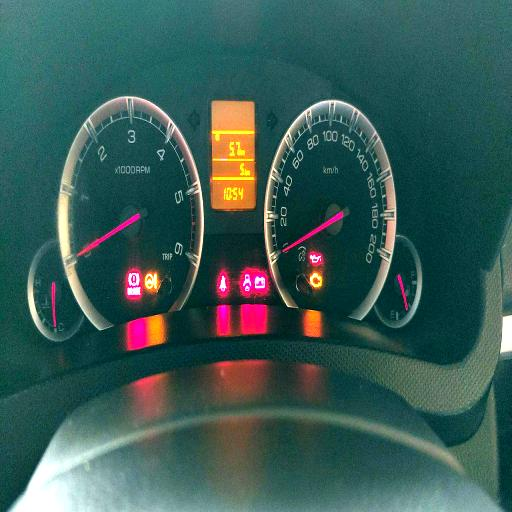belt: (219, 274, 227, 292)
brake_system_fault: (128, 272, 140, 286)
check_engine: (310, 272, 322, 288)
oil: (310, 254, 322, 263)
tachometer: (57, 99, 204, 324)
vehicle_charging: (254, 277, 265, 289)
